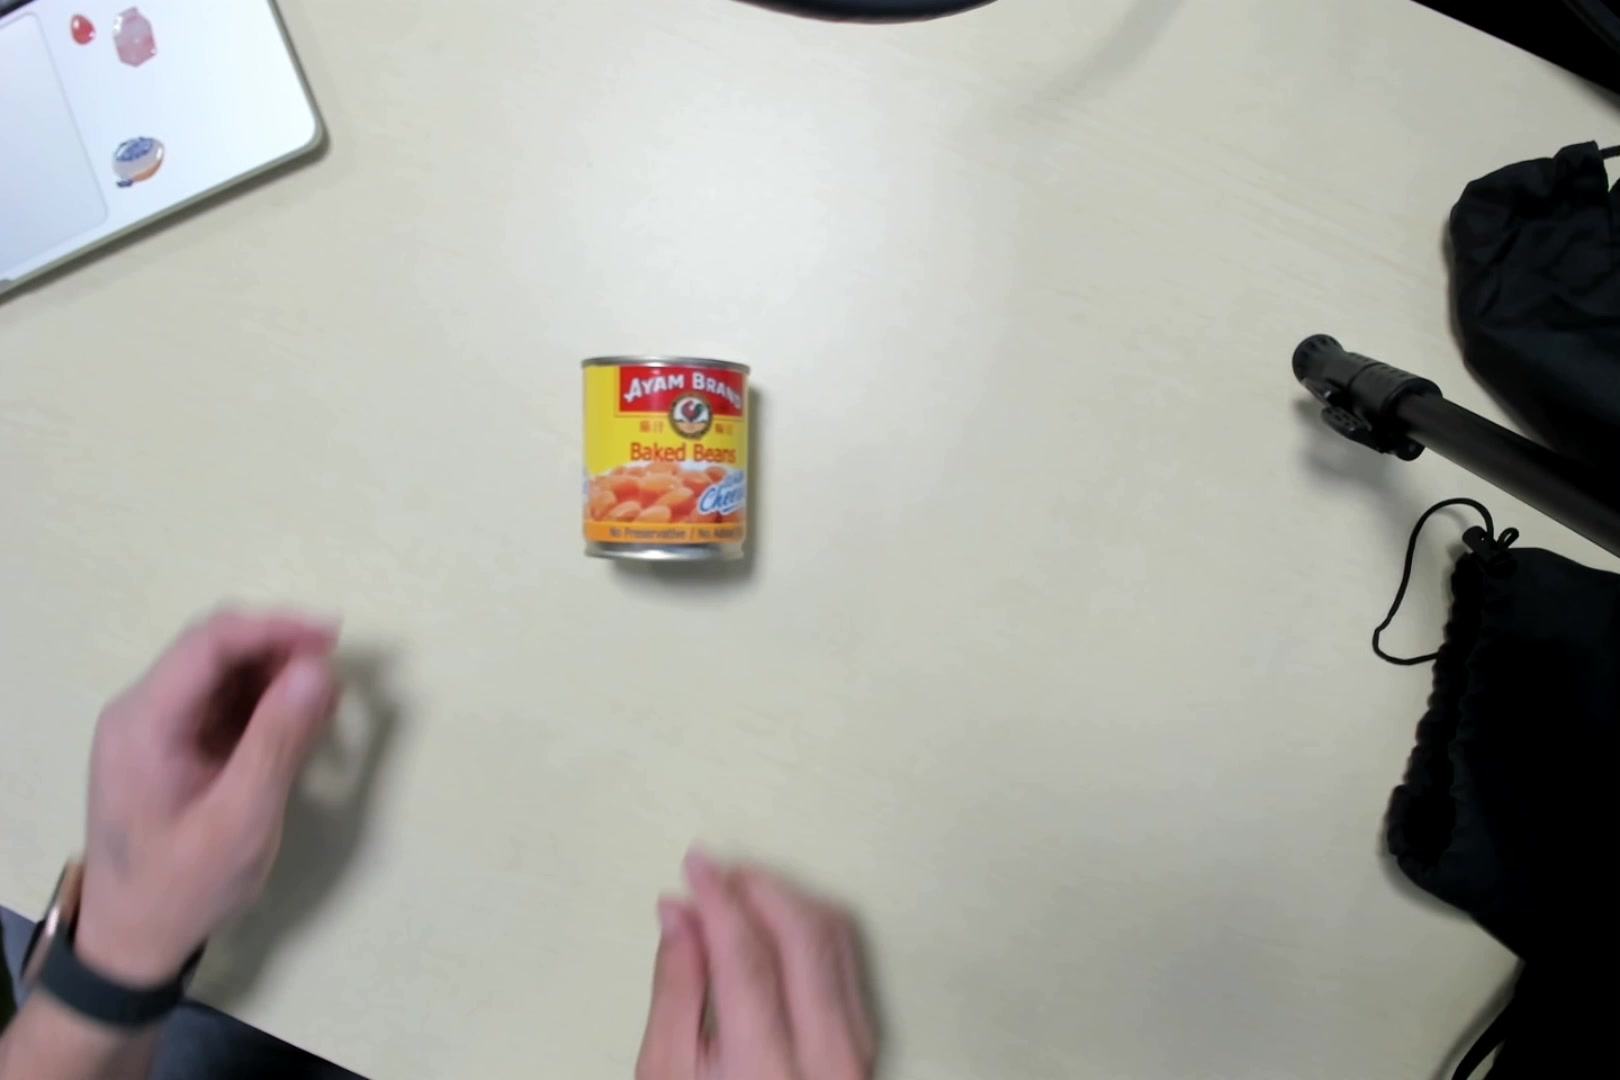CannedBakedBeans_200-299g_NonHalal_NonHealthy: (579, 344, 762, 570)
